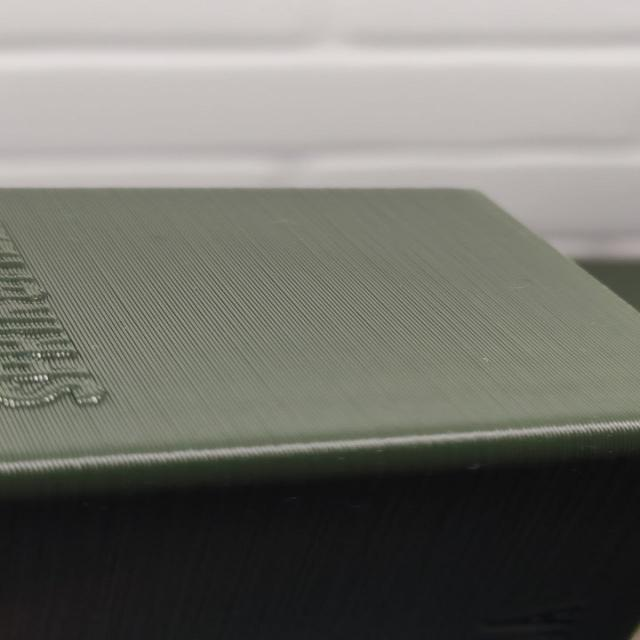Without deffect: (0, 161, 640, 493)
